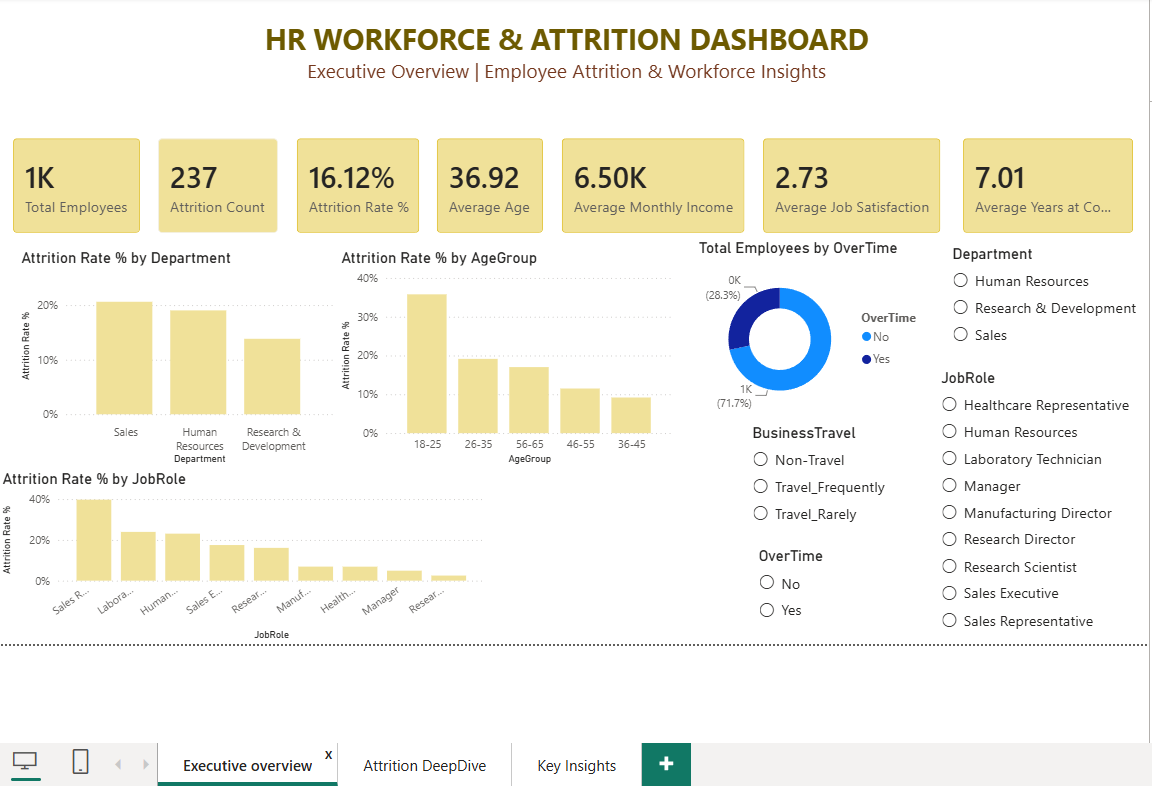

The page's visual inventory and layout, read from the dashboard file:
{"tool":"powerbi","page":{"name":"Executive overview","canvas":[1280,720],"ordinal":0},"visuals":[{"type":"cardVisual","fields":{"Data":["HR-Employee-Attrition.Total Employees"]},"box":[0,140,175.6,140],"z":0},{"type":"cardVisual","fields":{"Data":["HR-Employee-Attrition.Attrition Count"]},"box":[161.9,140,167.4,140],"z":1000},{"type":"cardVisual","fields":{"Data":["HR-Employee-Attrition.Attrition Rate %"]},"box":[315.6,140,170.2,140],"z":2000},{"type":"cardVisual","fields":{"Data":["HR-Employee-Attrition.Average Age"]},"box":[470.7,140,152.3,140],"z":3000},{"type":"cardVisual","fields":{"Data":["HR-Employee-Attrition.Average Monthly Income"]},"box":[610.6,140,237.4,140],"z":4000},{"type":"cardVisual","fields":{"Data":["HR-Employee-Attrition.Average Job Satisfaction"]},"box":[834.3,140,231.9,140],"z":5000},{"type":"cardVisual","fields":{"Data":["HR-Employee-Attrition.Average Years at Company"]},"box":[1056.6,140,223.7,140],"z":6000},{"type":"clusteredColumnChart","fields":{"Category":["HR-Employee-Attrition.Department"],"Y":["HR-Employee-Attrition.Attrition Rate %"]},"box":[20.6,279.9,356.8,245.6],"z":7000},{"type":"clusteredColumnChart","fields":{"Y":["HR-Employee-Attrition.Attrition Rate %"],"Category":["HR-Employee-Attrition.AgeGroup"]},"box":[377.4,279.9,378.7,245.6],"z":8000},{"type":"clusteredColumnChart","fields":{"Y":["HR-Employee-Attrition.Attrition Rate %"],"Category":["HR-Employee-Attrition.JobRole"]},"box":[0,525.5,546.3,194.6],"z":9000},{"type":"donutChart","fields":{"Category":["HR-Employee-Attrition.OverTime"],"Y":["HR-Employee-Attrition.Total Employees"]},"box":[774.3,268.3,269.7,205.7],"z":10000},{"type":"listSlicer","fields":{"Values":["HR-Employee-Attrition.Department"]},"box":[1056.5,275.2,221,127.9],"z":11000},{"type":"listSlicer","fields":{"Values":["HR-Employee-Attrition.JobRole"]},"box":[1044,412.9,236.3,307.2],"z":12000},{"type":"listSlicer","fields":{"Values":["HR-Employee-Attrition.BusinessTravel"]},"box":[834.1,474,208.5,122.3],"z":13000},{"type":"listSlicer","fields":{"Values":["HR-Employee-Attrition.OverTime"]},"box":[841,611.6,137.6,97.3],"z":14000},{"type":"textbox","box":[0,19.5,1265,120.9],"z":15000}]}

Visuals, with their boxes on the page's 1280x720 design canvas (x1, y1, x2, y2). These are canvas units, not pixel positions in the 1152x786 screenshot, which may show the page scaled, cropped or inside an application window:
cardVisual - HR-Employee-Attrition.Total Employees: select_region(0, 140, 176, 280)
cardVisual - HR-Employee-Attrition.Attrition Count: select_region(162, 140, 329, 280)
cardVisual - HR-Employee-Attrition.Attrition Rate %: select_region(316, 140, 486, 280)
cardVisual - HR-Employee-Attrition.Average Age: select_region(471, 140, 623, 280)
cardVisual - HR-Employee-Attrition.Average Monthly Income: select_region(611, 140, 848, 280)
cardVisual - HR-Employee-Attrition.Average Job Satisfaction: select_region(834, 140, 1066, 280)
cardVisual - HR-Employee-Attrition.Average Years at Company: select_region(1057, 140, 1280, 280)
clusteredColumnChart - HR-Employee-Attrition.Department x HR-Employee-Attrition.Attrition Rate %: select_region(21, 280, 377, 526)
clusteredColumnChart - HR-Employee-Attrition.Attrition Rate % x HR-Employee-Attrition.AgeGroup: select_region(377, 280, 756, 526)
clusteredColumnChart - HR-Employee-Attrition.Attrition Rate % x HR-Employee-Attrition.JobRole: select_region(0, 526, 546, 720)
donutChart - HR-Employee-Attrition.OverTime x HR-Employee-Attrition.Total Employees: select_region(774, 268, 1044, 474)
listSlicer - HR-Employee-Attrition.Department: select_region(1056, 275, 1278, 403)
listSlicer - HR-Employee-Attrition.JobRole: select_region(1044, 413, 1280, 720)
listSlicer - HR-Employee-Attrition.BusinessTravel: select_region(834, 474, 1043, 596)
listSlicer - HR-Employee-Attrition.OverTime: select_region(841, 612, 979, 709)
textbox: select_region(0, 20, 1265, 140)
